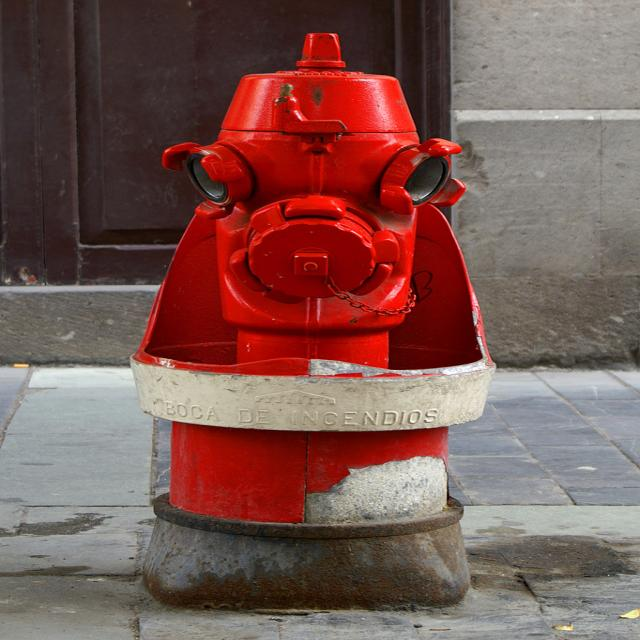fire_hydrant: (132, 28, 498, 618)
